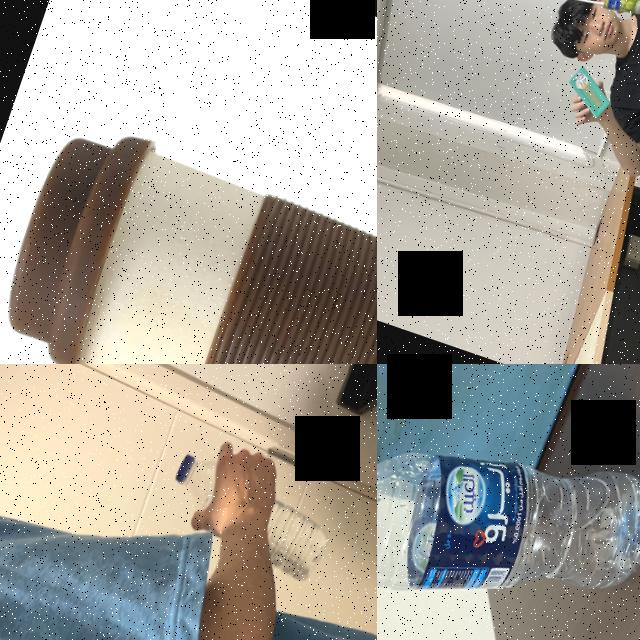bottle: (377, 364, 640, 640), (154, 452, 340, 586)
can: (600, 0, 640, 20)
cup: (0, 107, 377, 364)
